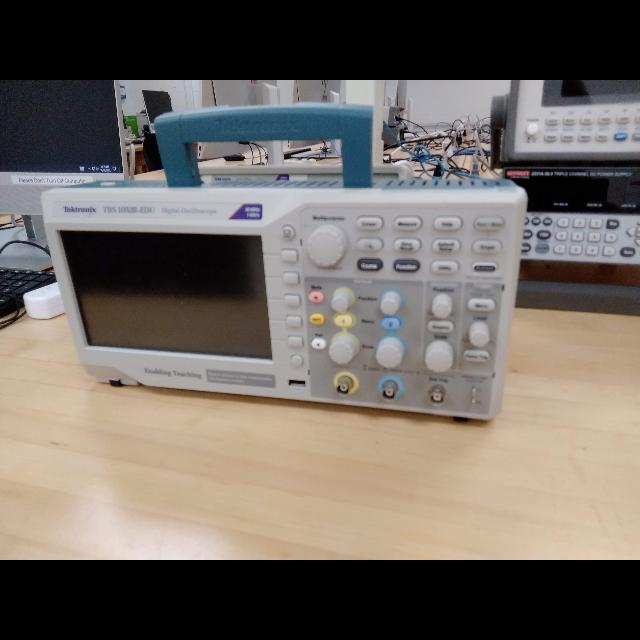Digital-Oscilloscope: (42, 192, 521, 418)
